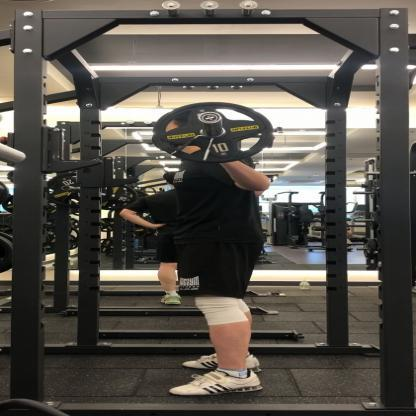Barbell: (195, 111, 229, 125)
